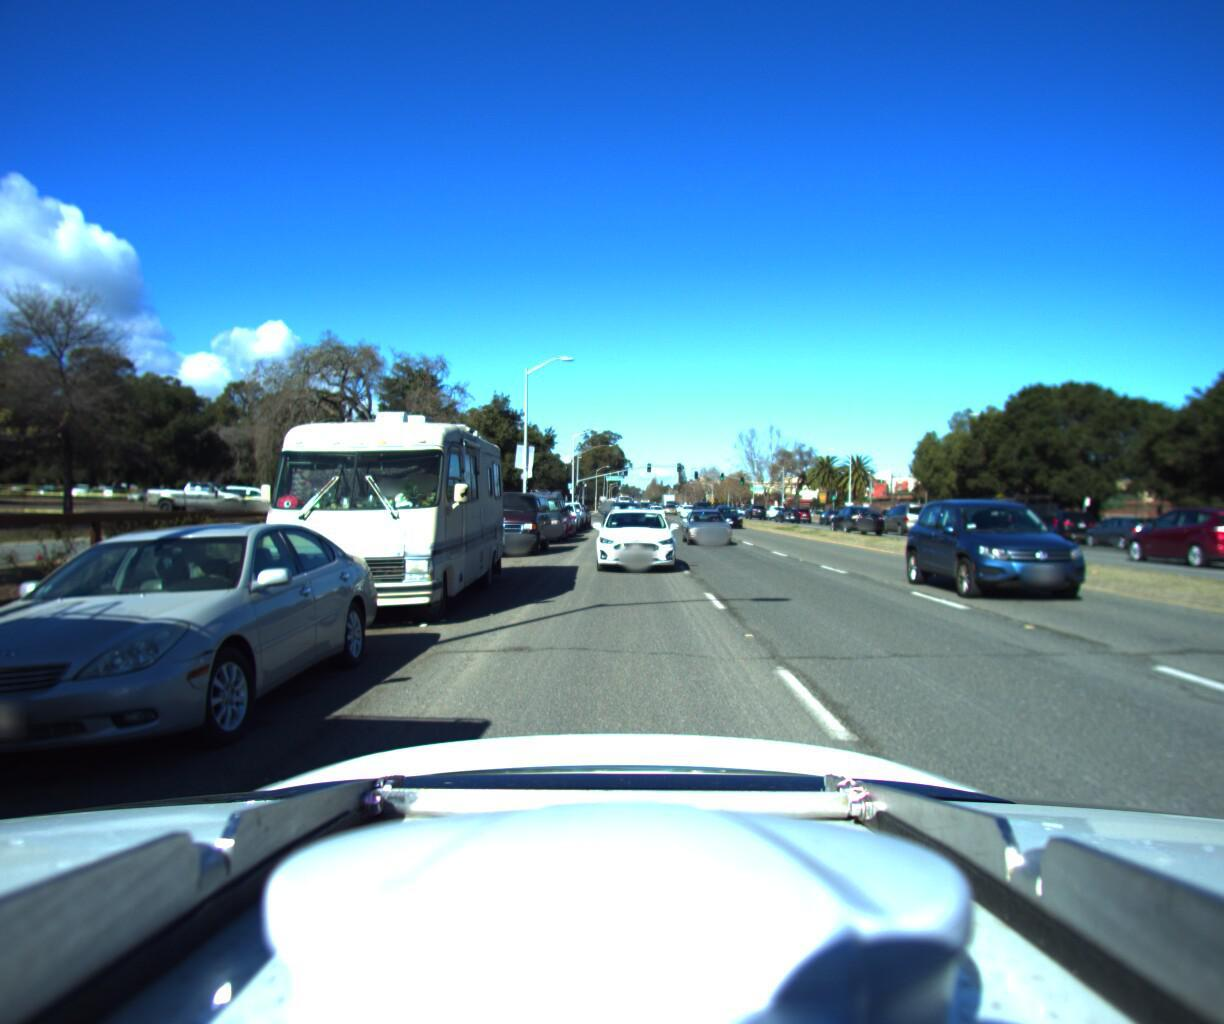car: (0, 510, 407, 823), (915, 489, 1153, 616), (1105, 494, 1224, 564), (458, 482, 558, 555), (945, 484, 1056, 541), (595, 498, 679, 569), (1070, 505, 1175, 545), (508, 480, 570, 541), (1148, 508, 1224, 552), (1014, 499, 1098, 538), (677, 501, 739, 544), (820, 487, 885, 527), (875, 493, 940, 530), (536, 493, 582, 529), (528, 500, 577, 533), (544, 493, 589, 524), (712, 497, 751, 522), (773, 499, 800, 515)
other_vehicle: (218, 376, 523, 633)
